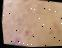plaque psoriasis: (5, 34, 25, 47), (19, 0, 29, 2)
